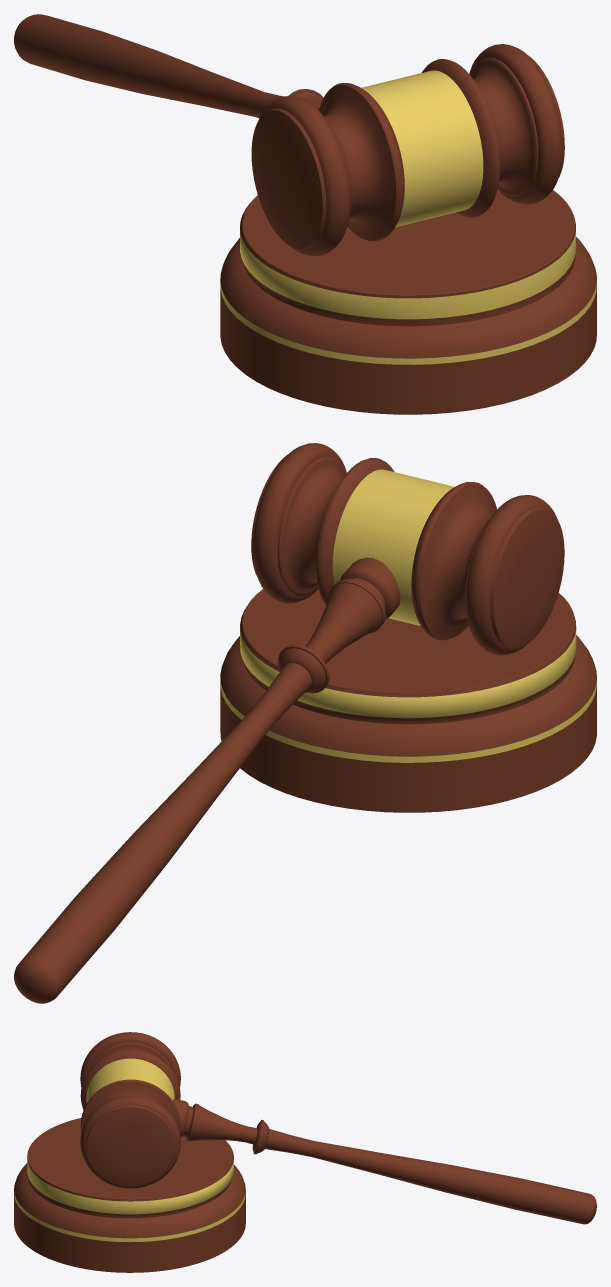
File: GRAVEL.fbx
The picture shows the model from 3 angles, top to bottom: view 1: azimuth 30°, elevation 25°; view 2: azimuth 150°, elevation 25°; view 3: azimuth 270°, elevation 25°; orthographic projection. The views are drawn at different scales.
Visible parts, largest first — view 1: Wood_02 - Default_0, JudgeHammer_low_03 - Default_0; view 2: JudgeHammer_low_03 - Default_0, Wood_02 - Default_0; view 3: JudgeHammer_low_03 - Default_0, Wood_02 - Default_0.
Boxes of the visible parts, x1,y1,x2,y2 form: Wood_02 - Default_0: [220, 190, 596, 414]; JudgeHammer_low_03 - Default_0: [14, 14, 564, 256]; JudgeHammer_low_03 - Default_0: [14, 443, 564, 1003]; Wood_02 - Default_0: [220, 589, 596, 812]; JudgeHammer_low_03 - Default_0: [80, 1032, 596, 1224]; Wood_02 - Default_0: [14, 1118, 245, 1272].
Size of the model in its own units: 61.43 by 46.57 by 154.
